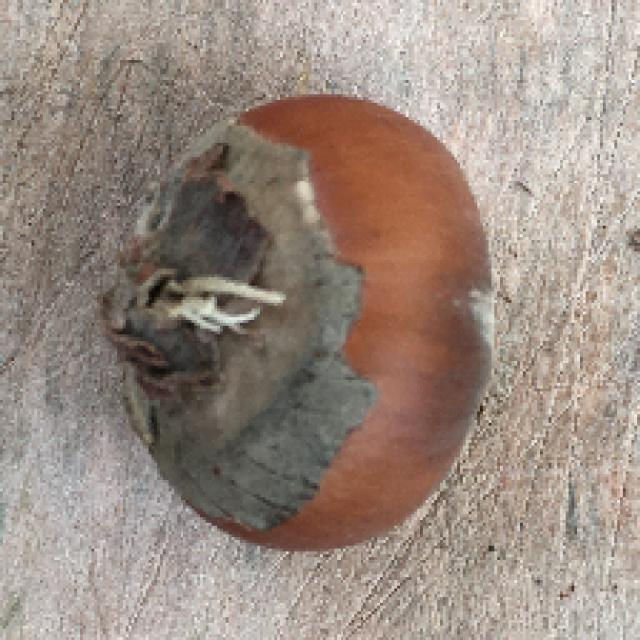damagedHazelnut: (110, 90, 502, 570)
